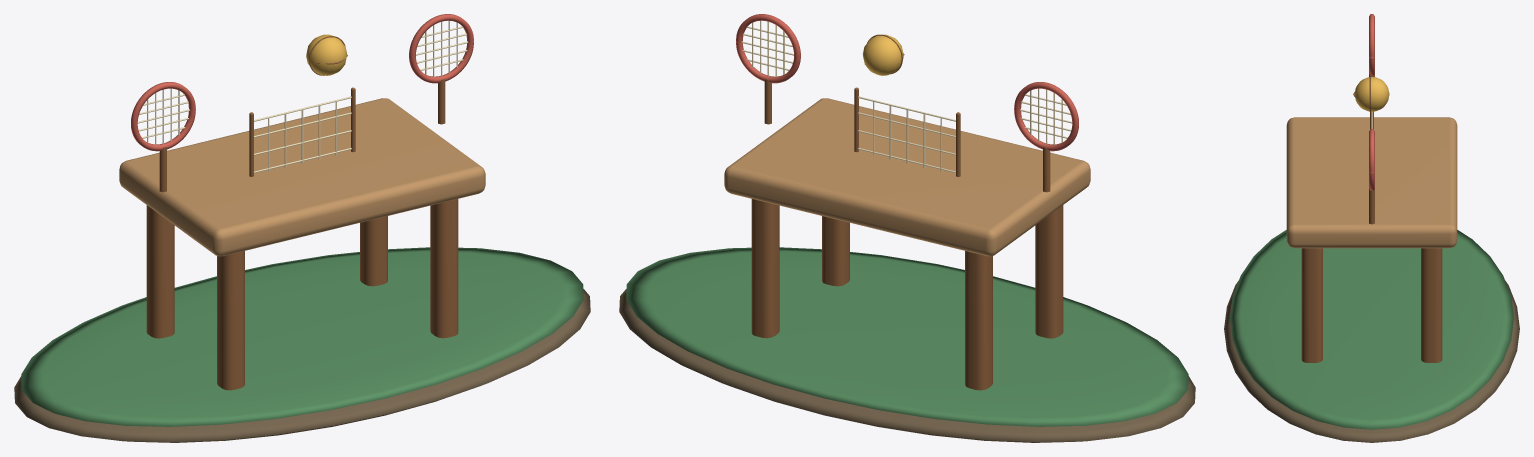
File: table-tennis.glb
3 renders of one model, left to right at view 1: azimuth 30°, elevation 25°; view 2: azimuth 150°, elevation 25°; view 3: azimuth 270°, elevation 25°, orthographic. The views are drawn at different scales.
Visible parts, largest first — view 1: table-tennis_surface_01, table-tennis_surface_06, table-tennis_surface_03, table-tennis_surface_00, table-tennis_surface_04, table-tennis_surface_02, table-tennis_surface_05; view 2: table-tennis_surface_01, table-tennis_surface_06, table-tennis_surface_03, table-tennis_surface_00, table-tennis_surface_04, table-tennis_surface_02, table-tennis_surface_05; view 3: table-tennis_surface_01, table-tennis_surface_06, table-tennis_surface_03, table-tennis_surface_00, table-tennis_surface_05, table-tennis_surface_02.
Boxes of the visible parts, <box> form: table-tennis_surface_01: <box>21,247,583,426</box>; table-tennis_surface_06: <box>119,98,485,256</box>; table-tennis_surface_03: <box>146,36,458,390</box>; table-tennis_surface_00: <box>14,289,590,442</box>; table-tennis_surface_04: <box>137,21,468,173</box>; table-tennis_surface_02: <box>131,14,473,151</box>; table-tennis_surface_05: <box>306,34,347,75</box>; table-tennis_surface_01: <box>626,247,1188,426</box>; table-tennis_surface_06: <box>724,98,1090,256</box>; table-tennis_surface_03: <box>751,34,1063,390</box>; table-tennis_surface_00: <box>619,289,1195,442</box>; table-tennis_surface_04: <box>741,21,1072,173</box>; table-tennis_surface_02: <box>736,14,1078,151</box>; table-tennis_surface_05: <box>862,34,903,75</box>; table-tennis_surface_01: <box>1230,230,1513,429</box>; table-tennis_surface_06: <box>1286,117,1457,248</box>; table-tennis_surface_03: <box>1301,74,1442,362</box>; table-tennis_surface_00: <box>1224,281,1519,442</box>; table-tennis_surface_05: <box>1354,76,1389,111</box>; table-tennis_surface_02: <box>1369,14,1374,190</box>.
Size of the model in its own units: 4.56 by 2.68 by 2.5.
